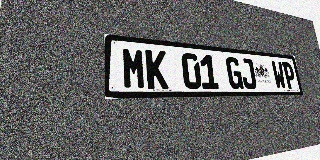0: (181, 53, 202, 89)
1: (199, 54, 219, 89)
G: (225, 57, 244, 89)
J: (239, 58, 257, 89)
K: (145, 49, 169, 89)
M: (122, 47, 147, 89)
P: (282, 62, 297, 89)
W: (271, 61, 287, 89)
